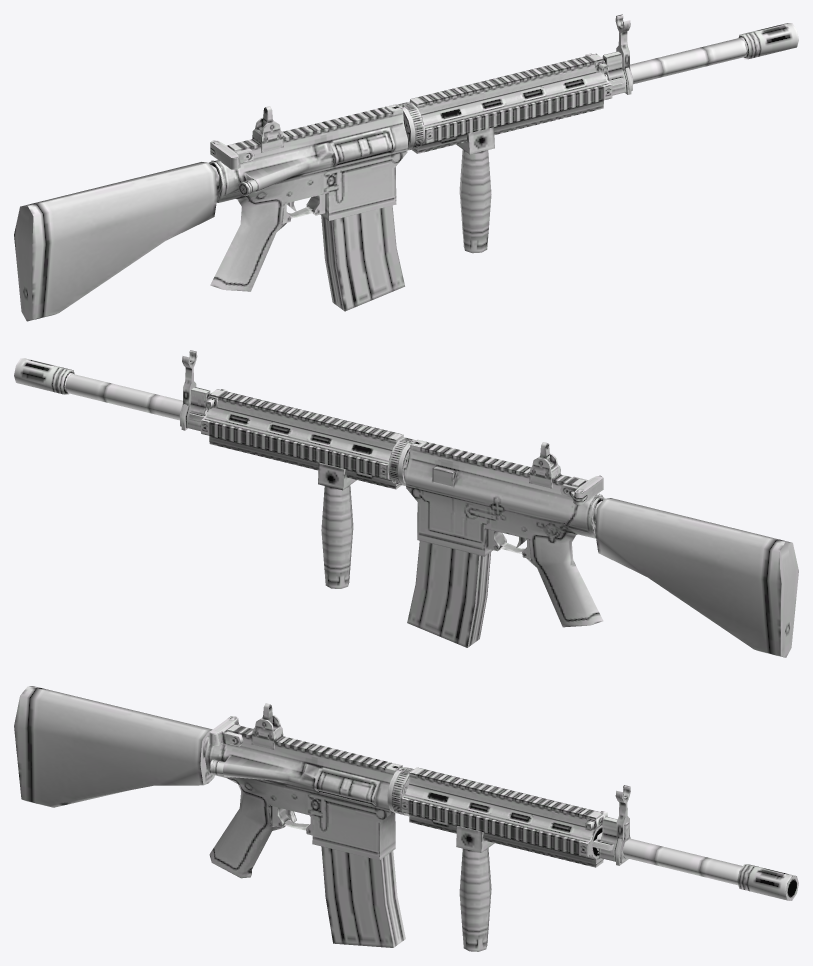
File: Weapon_AssaultRifle_ATac_Weapon_AssaultRifle_ATac_SkeletalMesh3_Weapon_AssaultRifle_ATac_Default_LOD0.psk.glb
3 renders of one model, top to bottom at view 1: azimuth 30°, elevation 25°; view 2: azimuth 150°, elevation 25°; view 3: azimuth 330°, elevation 25°, orthographic.
Bounding box in the file's own units: 98.63 × 26.98 × 6.93.
1 material, 1 textured.
